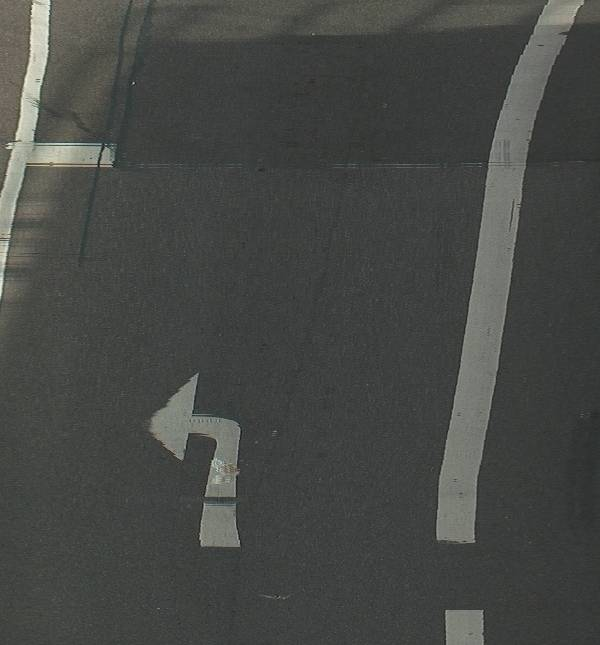road_damage: (124, 132, 600, 182)
